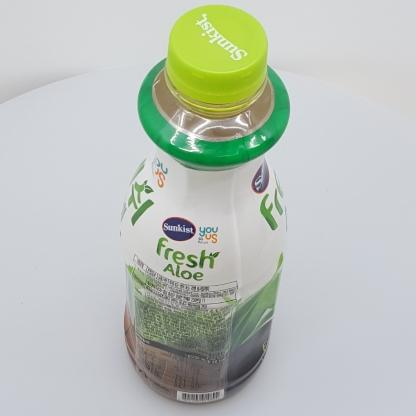----------1L: (120, 4, 290, 405)
